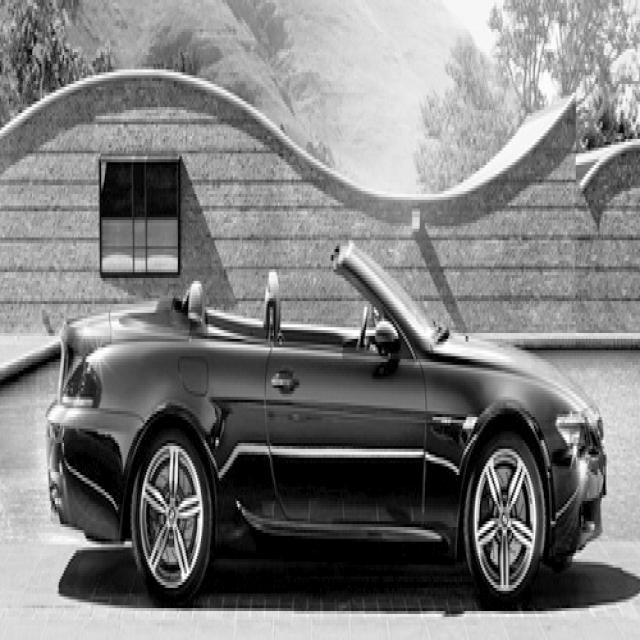car: (45, 238, 607, 606)
